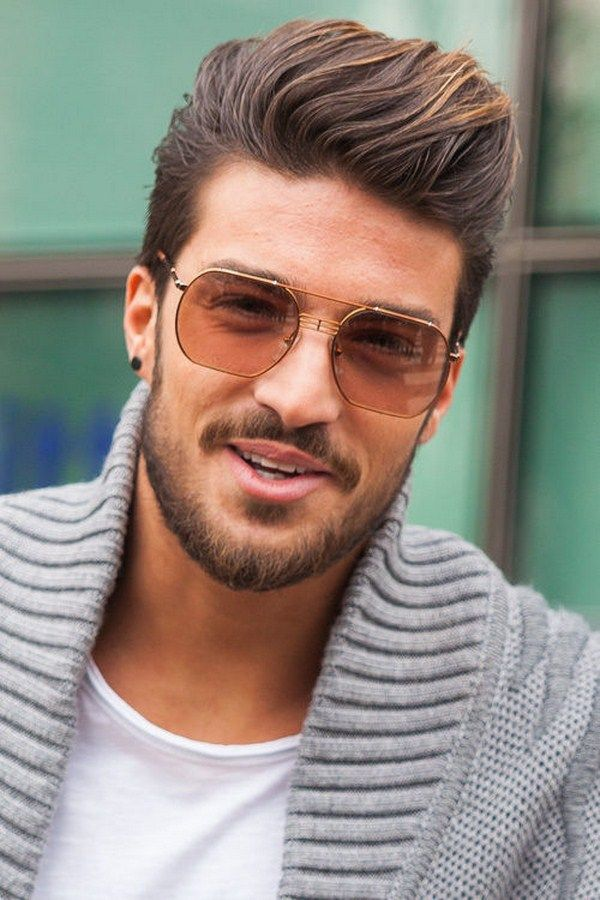glasses: (138, 242, 475, 430)
